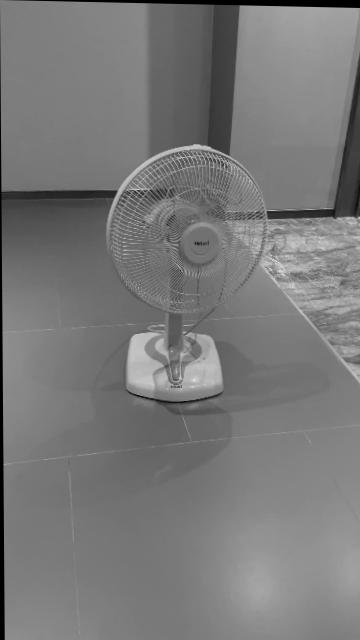Fan: (107, 144, 268, 403)
